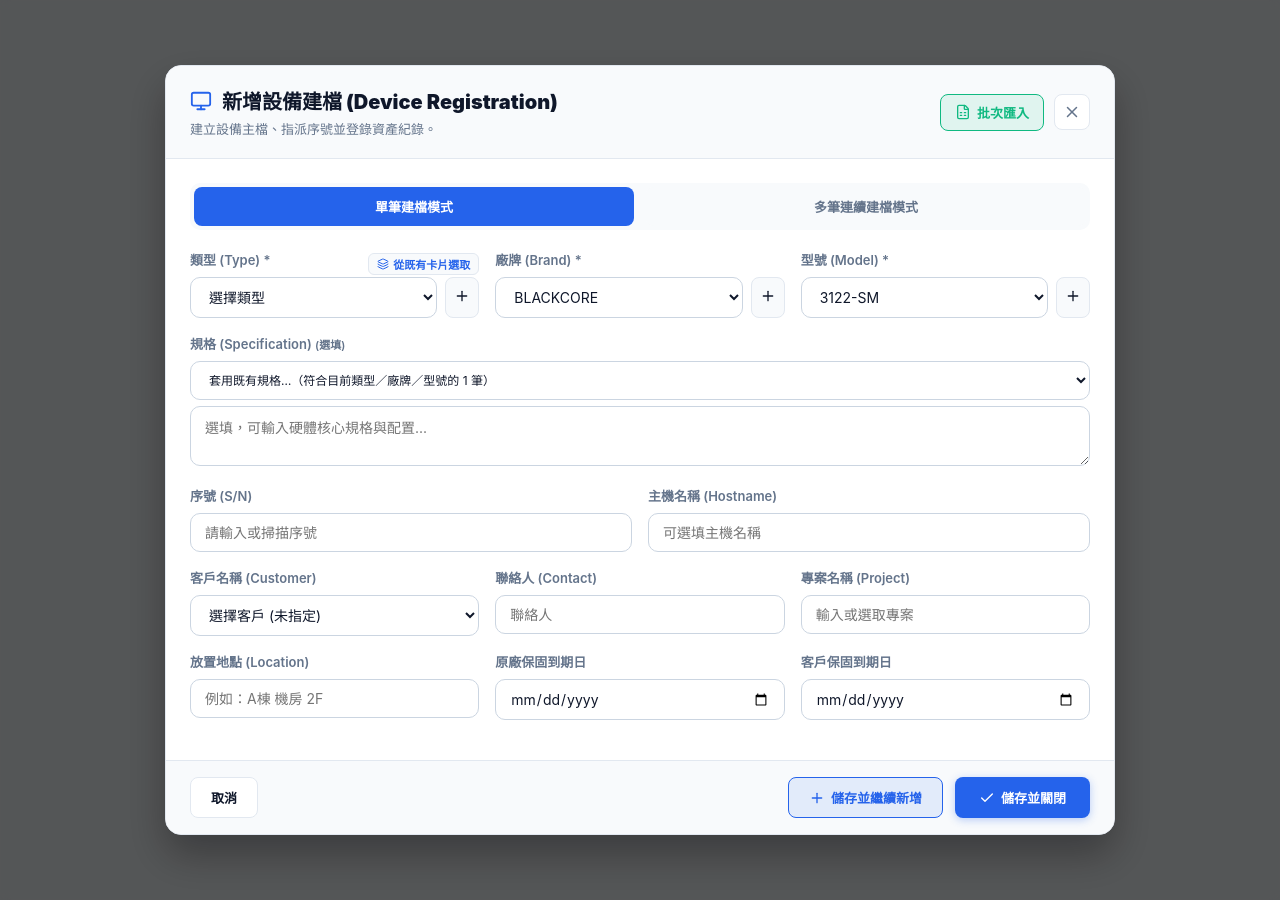
Test: 從既有卡片選取 › 建檔視窗的整合 › 按下按鈕開啟挑選視窗，選完會帶入四個欄位
Click the button "從既有卡片選取": {"x": 424, "y": 264} [368,252,479,274]
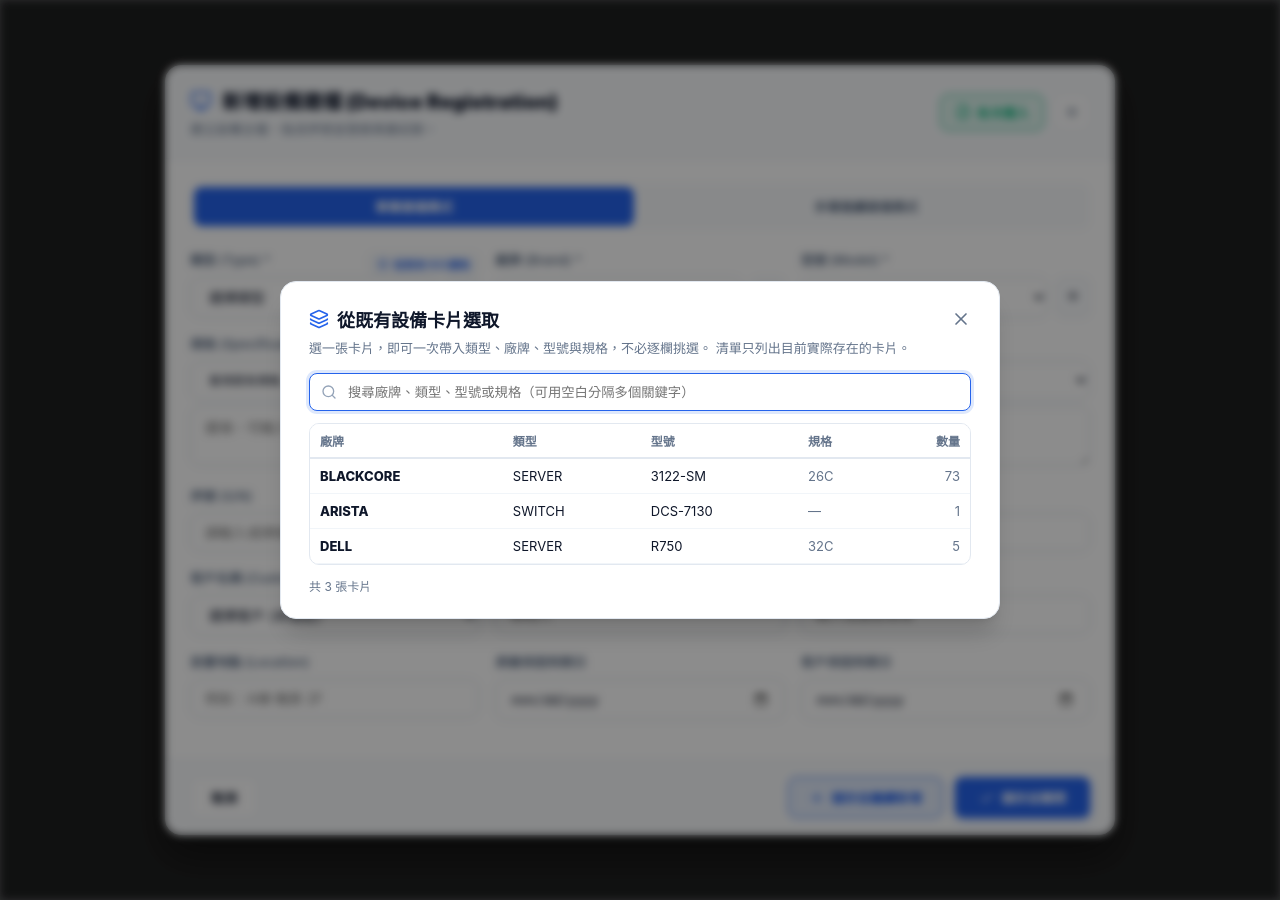
# 用型號點選：DELL 同時也是廠牌下拉的選項，會對到兩個元素
Click the text "R750": {"x": 719, "y": 546} [641,528,798,563]
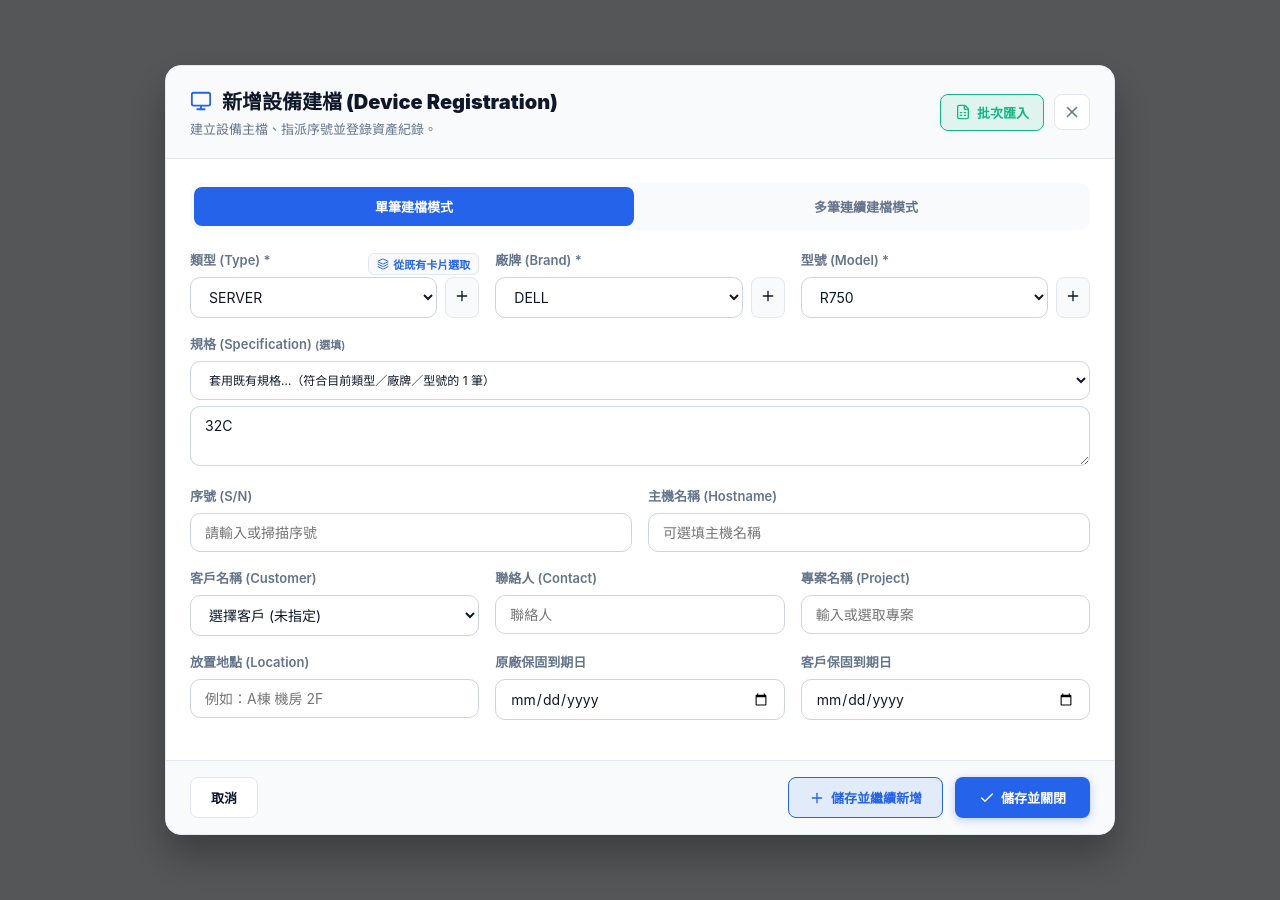
Check: the text box showing "32C" is shown, box [190,406,1090,466]
